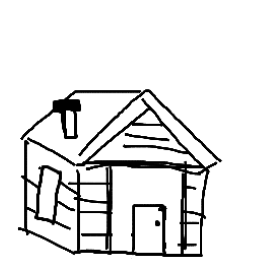bottom_placed_house: (1, 1, 260, 260)
chimney: (48, 94, 88, 143)
door: (128, 201, 175, 259)
open_window: (32, 158, 65, 230)
roof: (13, 79, 229, 172)
wall: (73, 151, 209, 260)
